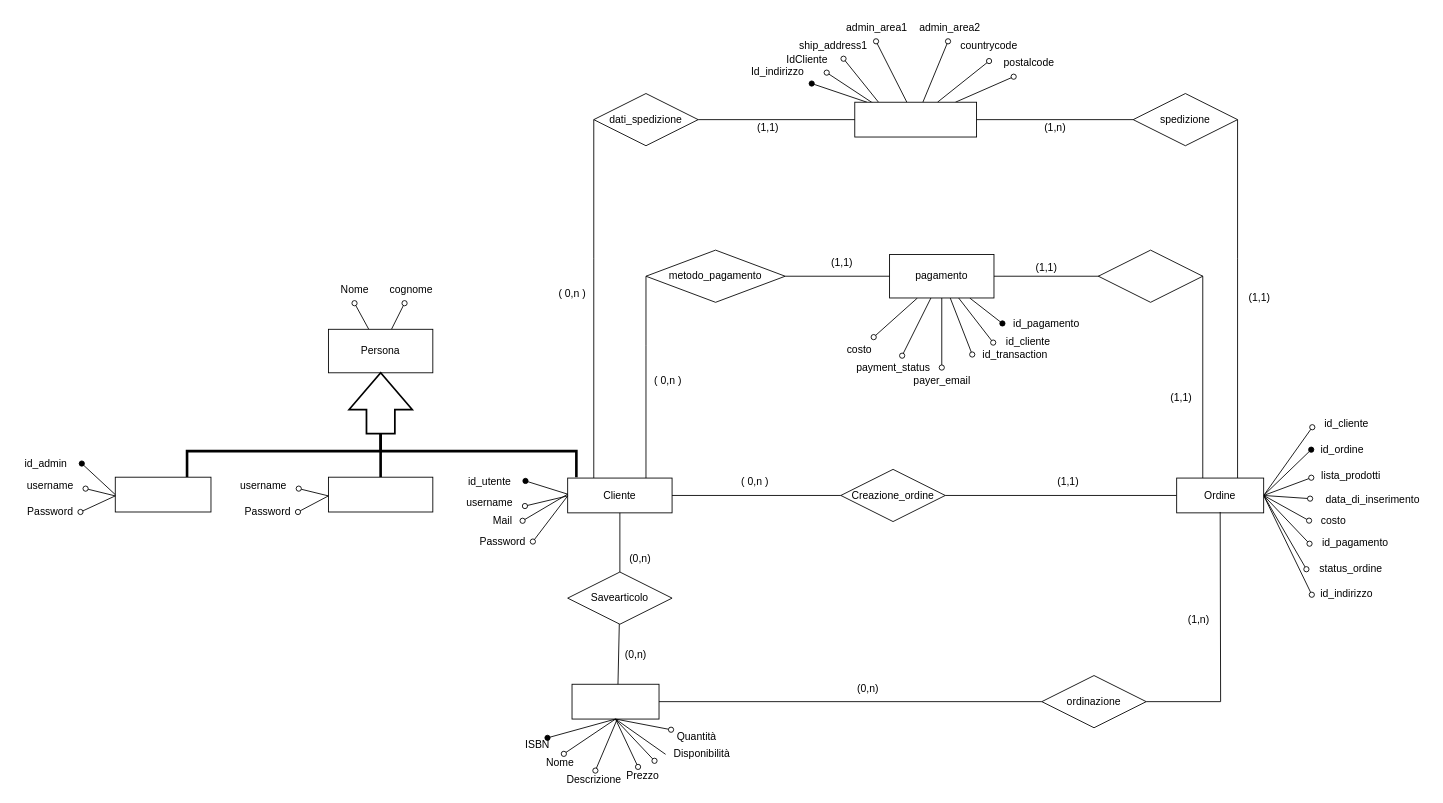
Image size: 1443x803. Some labels were removed from this diagram. The centre of each missing label's shape, as x and y in pixels:
"Admin" belongs at (x=162, y=494).
"Articolo" belongs at (x=615, y=701).
"indirizzo" belongs at (x=915, y=119).
"superadmin" belongs at (x=380, y=494).
"Transazione" belongs at (x=1150, y=275).
